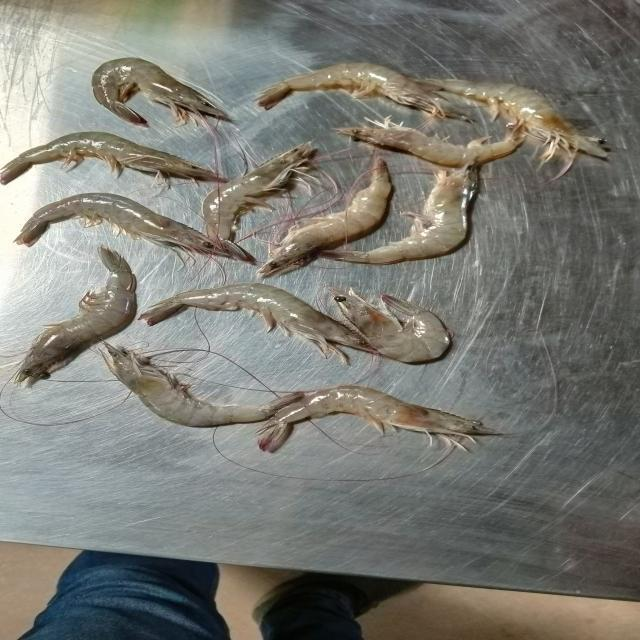shrimp: (139, 282, 376, 364), (425, 79, 607, 179), (102, 342, 303, 428), (15, 192, 255, 264), (13, 246, 137, 382), (257, 158, 392, 278), (259, 385, 500, 452), (321, 162, 478, 264), (257, 62, 469, 120), (0, 131, 226, 184), (201, 142, 317, 240), (93, 58, 230, 126), (339, 118, 522, 168), (330, 286, 449, 362)
